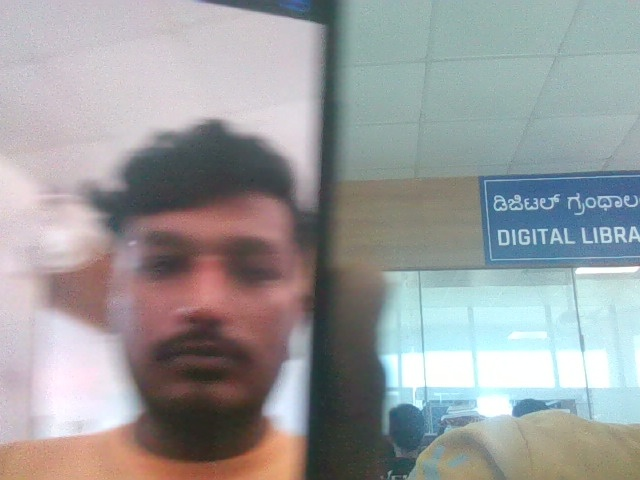fake: (81, 100, 324, 445)
